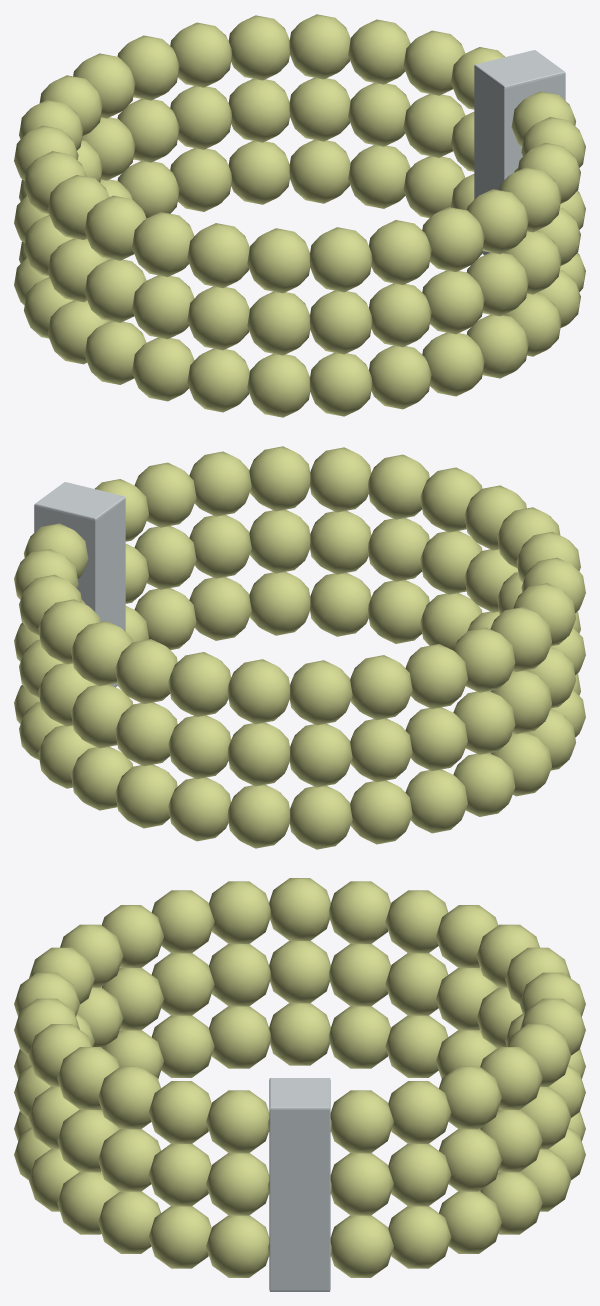
3 views of the same model, one above another, from view 1: azimuth 30°, elevation 25°; view 2: azimuth 150°, elevation 25°; view 3: azimuth 270°, elevation 25° (orthographic).
Visible parts, largest first — view 1: TI024 / platinum bracelet clasp, TI024 / individual pearl.069, TI024 / individual pearl.070, TI024 / individual pearl.044, TI024 / individual pearl.043, TI024 / individual pearl.018, TI024 / individual pearl.017, TI024 / individual pearl.068, TI024 / individual pearl.056, TI024 / individual pearl.016, TI024 / individual pearl.042, TI024 / individual pearl.071 (+56 smaller); view 2: TI024 / platinum bracelet clasp, TI024 / individual pearl.060, TI024 / individual pearl.061, TI024 / individual pearl.034, TI024 / individual pearl.035, TI024 / individual pearl.008, TI024 / individual pearl.009, TI024 / individual pearl.062, TI024 / individual pearl.074, TI024 / individual pearl.010, TI024 / individual pearl.036, TI024 / individual pearl.059 (+56 smaller); view 3: TI024 / platinum bracelet clasp, TI024 / individual pearl.053, TI024 / individual pearl.077, TI024 / individual pearl.001, TI024 / individual pearl.025, TI024 / individual pearl.027, TI024 / individual pearl.051, TI024 / individual pearl.065, TI024 / individual pearl.013, TI024 / individual pearl.039, TI024 / individual pearl.054, TI024 / individual pearl.076 (+54 smaller).
Boxes of the visible parts, box(x1,y1,x2,y2) form: TI024 / platinum bracelet clasp: box(474, 50, 565, 255); TI024 / individual pearl.069: box(247, 228, 310, 293); TI024 / individual pearl.070: box(310, 227, 372, 292); TI024 / individual pearl.044: box(309, 290, 372, 354); TI024 / individual pearl.043: box(247, 291, 310, 355); TI024 / individual pearl.018: box(310, 352, 372, 416); TI024 / individual pearl.017: box(247, 353, 310, 417); TI024 / individual pearl.068: box(187, 223, 249, 287); TI024 / individual pearl.056: box(289, 14, 350, 79); TI024 / individual pearl.016: box(187, 348, 249, 412); TI024 / individual pearl.042: box(187, 286, 249, 350); TI024 / individual pearl.071: box(369, 220, 431, 284); TI024 / platinum bracelet clasp: box(34, 482, 125, 687); TI024 / individual pearl.060: box(227, 659, 289, 724); TI024 / individual pearl.061: box(289, 660, 352, 725); TI024 / individual pearl.034: box(227, 722, 290, 786); TI024 / individual pearl.035: box(289, 723, 352, 787); TI024 / individual pearl.008: box(227, 784, 289, 848); TI024 / individual pearl.009: box(289, 785, 352, 849); TI024 / individual pearl.062: box(350, 655, 412, 719); TI024 / individual pearl.074: box(249, 446, 310, 511); TI024 / individual pearl.010: box(350, 780, 412, 844); TI024 / individual pearl.036: box(350, 718, 412, 782); TI024 / individual pearl.059: box(168, 652, 230, 716); TI024 / platinum bracelet clasp: box(269, 1078, 330, 1291); TI024 / individual pearl.053: box(330, 1090, 393, 1153); TI024 / individual pearl.077: box(206, 1090, 269, 1153); TI024 / individual pearl.001: box(330, 1215, 393, 1277); TI024 / individual pearl.025: box(206, 1215, 269, 1277); TI024 / individual pearl.027: box(330, 1153, 393, 1215); TI024 / individual pearl.051: box(206, 1153, 269, 1215); TI024 / individual pearl.065: box(269, 878, 330, 940); TI024 / individual pearl.013: box(269, 1003, 330, 1065); TI024 / individual pearl.039: box(269, 941, 330, 1003); TI024 / individual pearl.054: box(388, 1081, 451, 1143); TI024 / individual pearl.076: box(148, 1081, 211, 1143).
Bounding box in the file's own units: 2.26 × 0.81 × 2.25.
